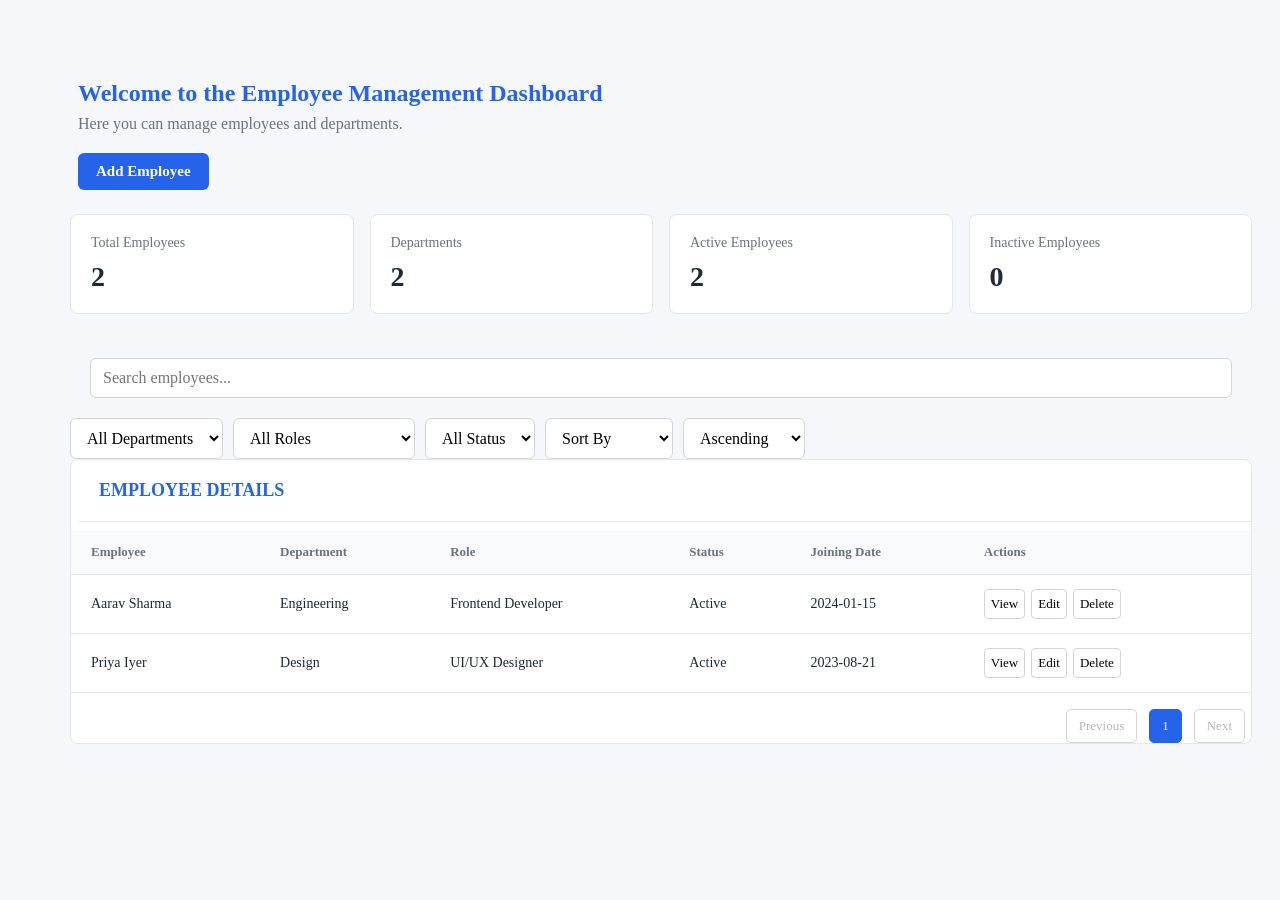
Test case: Search › should search employee by Employee ID
The image size is (1280, 900).
Type "EMP001" into the field with placeholder "Search employees...". click: point(661, 378)
box: [90,358,1232,398]
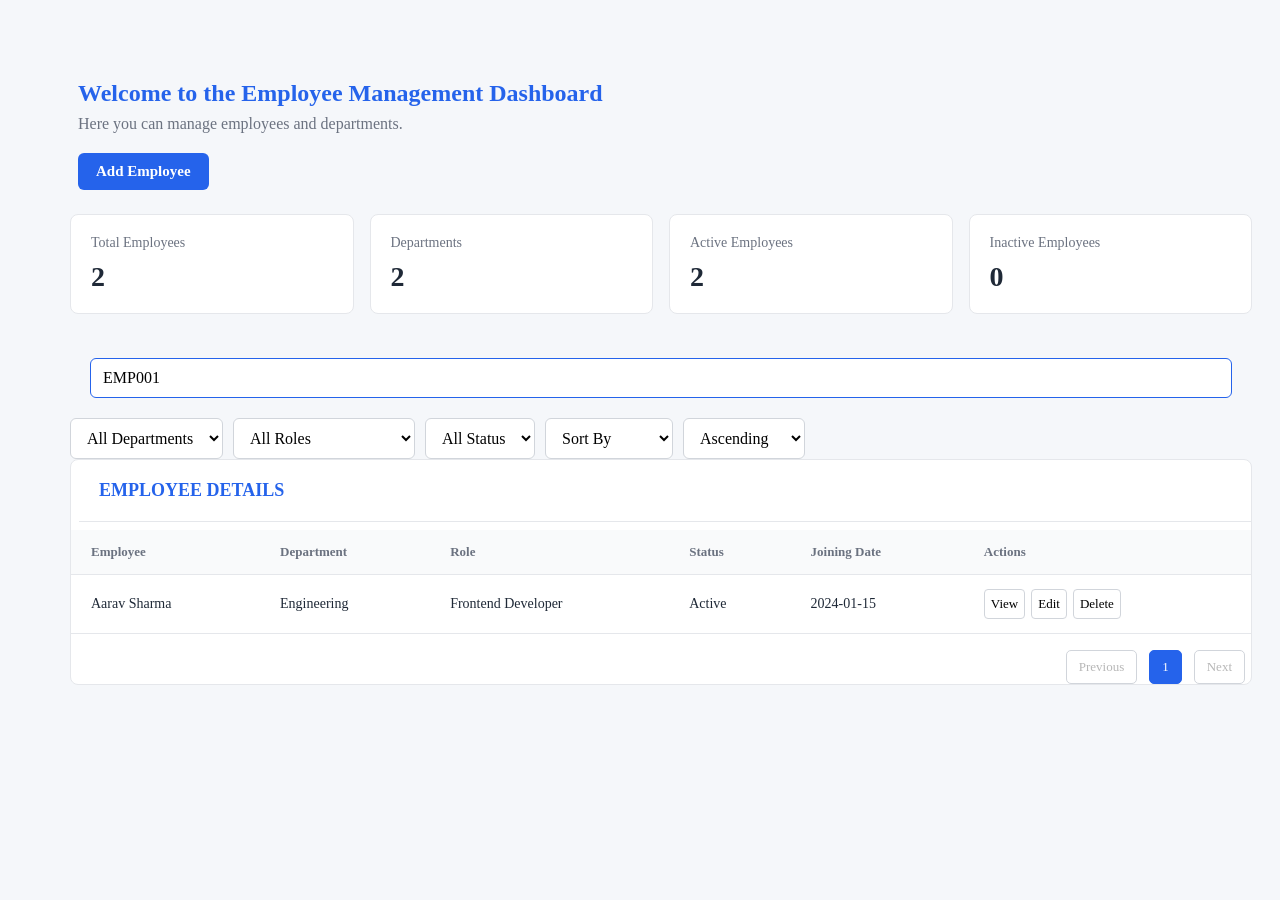
Expected: the text "Aarav Sharma" is shown, [71,574,260,634]
Expected: the text "Priya Iyer" is gone
